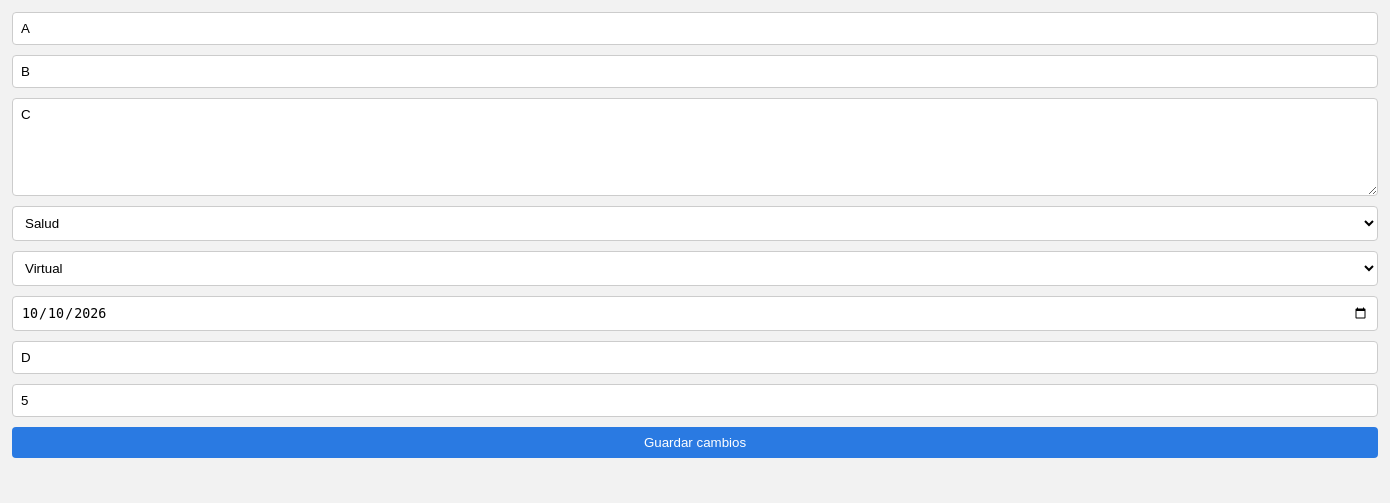
Scenario: AnuncioForm › muestra el error que devuelve el backend
Step 1. Click the button "Guardar cambios" → (695, 443), box [12, 427, 1378, 458]
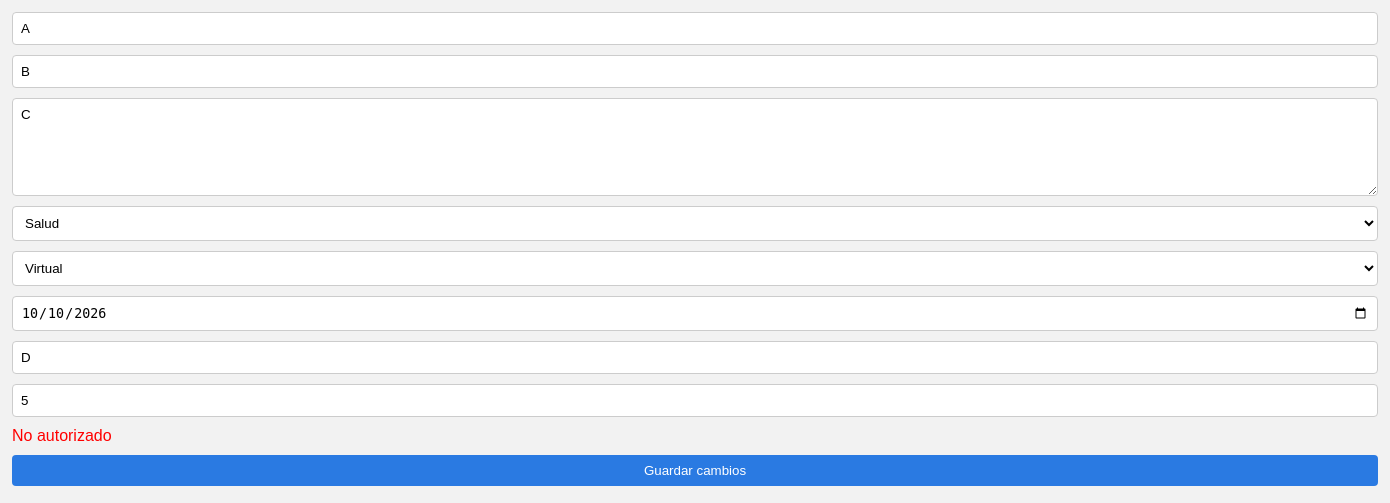
Expected: the text "No autorizado" is shown, [12, 427, 112, 444]
